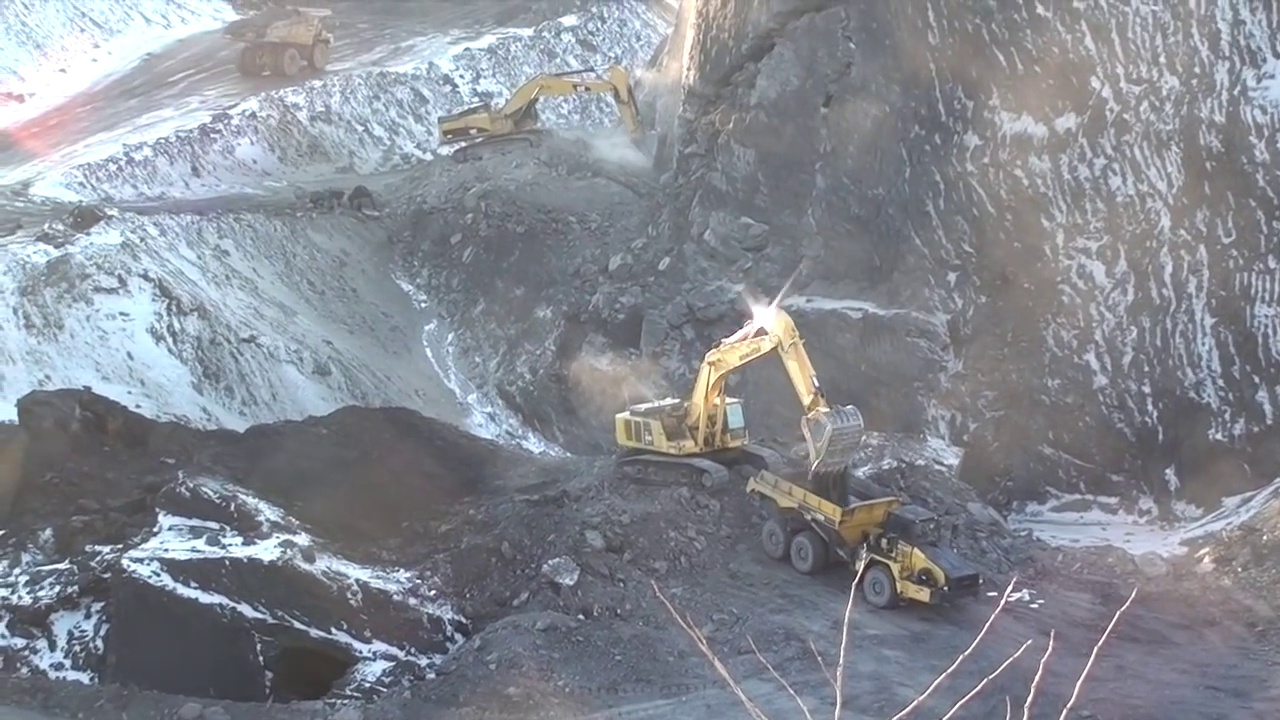dumper: (220, 6, 336, 76)
excavator: (612, 307, 866, 493), (436, 63, 667, 165)
truck: (745, 466, 988, 610)
